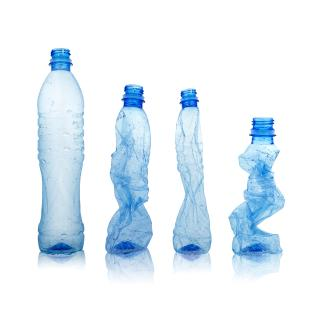Plastic-bottle: (35, 46, 87, 261), (105, 82, 158, 261), (228, 116, 288, 262), (171, 87, 216, 259)
